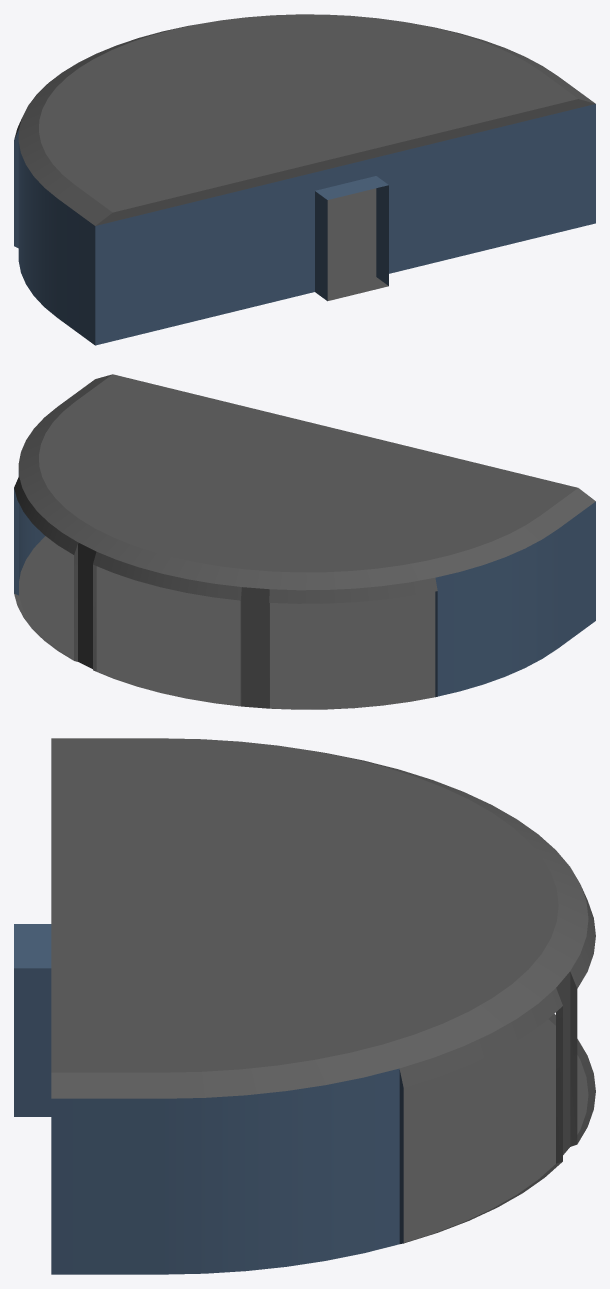
The model's file is Bridge_Inside.glb.
3 views of the same model, one above another, from view 1: azimuth 30°, elevation 25°; view 2: azimuth 150°, elevation 25°; view 3: azimuth 270°, elevation 25° (orthographic). The views are drawn at different scales.
Visible parts, largest first — view 1: Bridge_Inside; view 2: Bridge_Inside; view 3: Bridge_Inside.
Boxes of the visible parts, box(x1,y1,x2,y2) form: Bridge_Inside: box(14, 14, 595, 345); Bridge_Inside: box(14, 374, 595, 709); Bridge_Inside: box(14, 738, 595, 1274).
Size of the model in its own units: 11.4 by 2.8 by 7.8.
